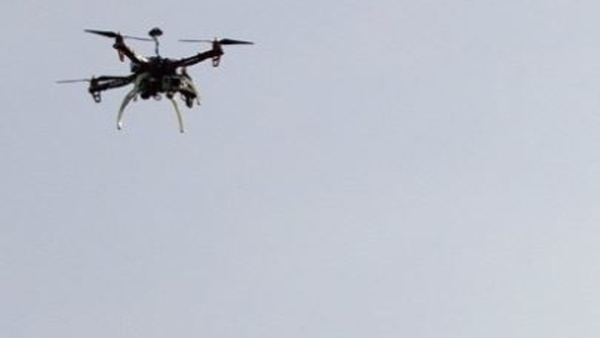drone: (54, 23, 257, 136)
